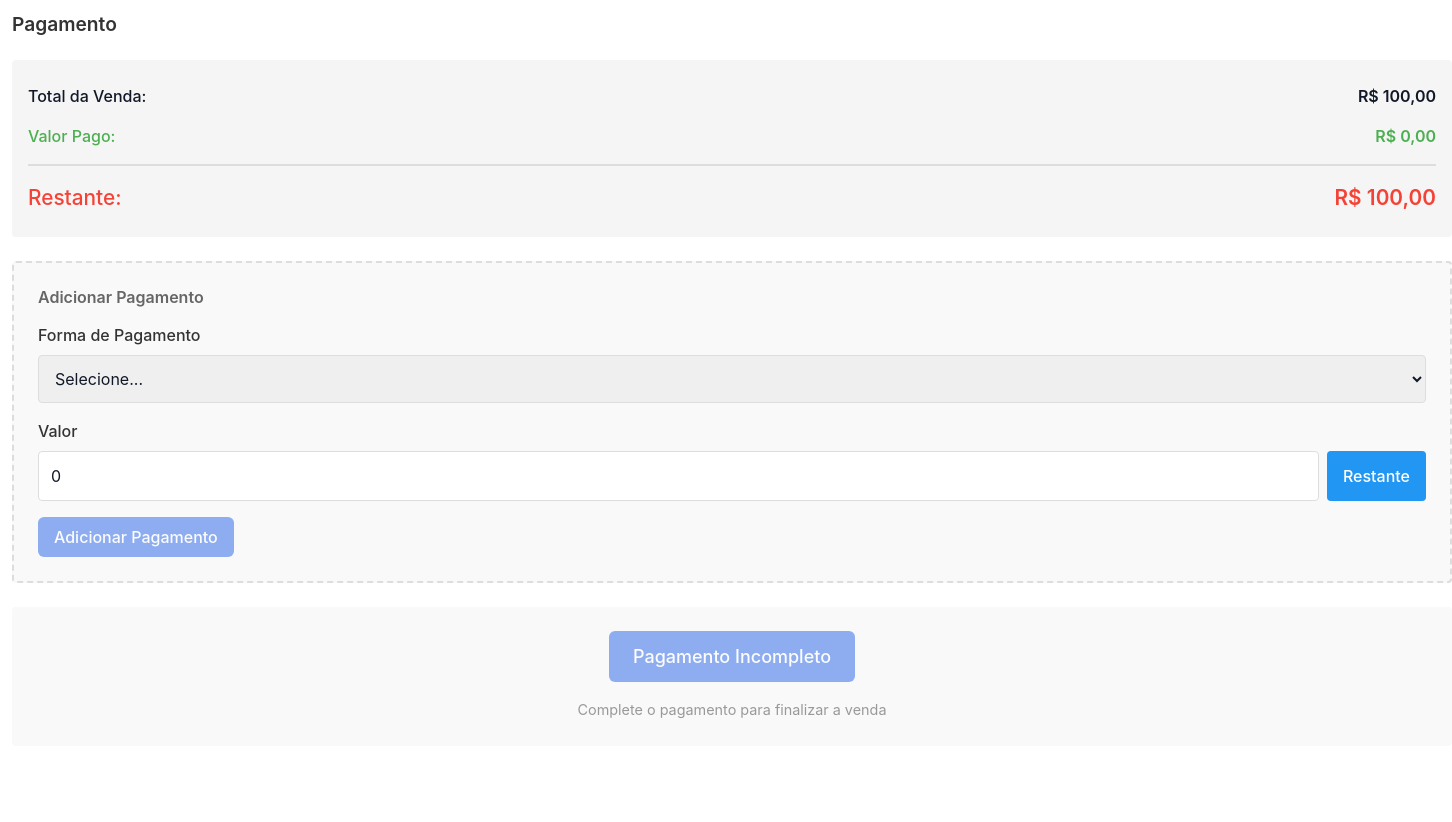
Test case: POSPaymentPanel › Add Payment Action › should reset form after adding payment
The width and height of the screenshot is (1452, 822).
Select "Dinheiro" in the dropdown labelled "Forma de Pagamento" at (732, 379), box [38,355,1426,403]
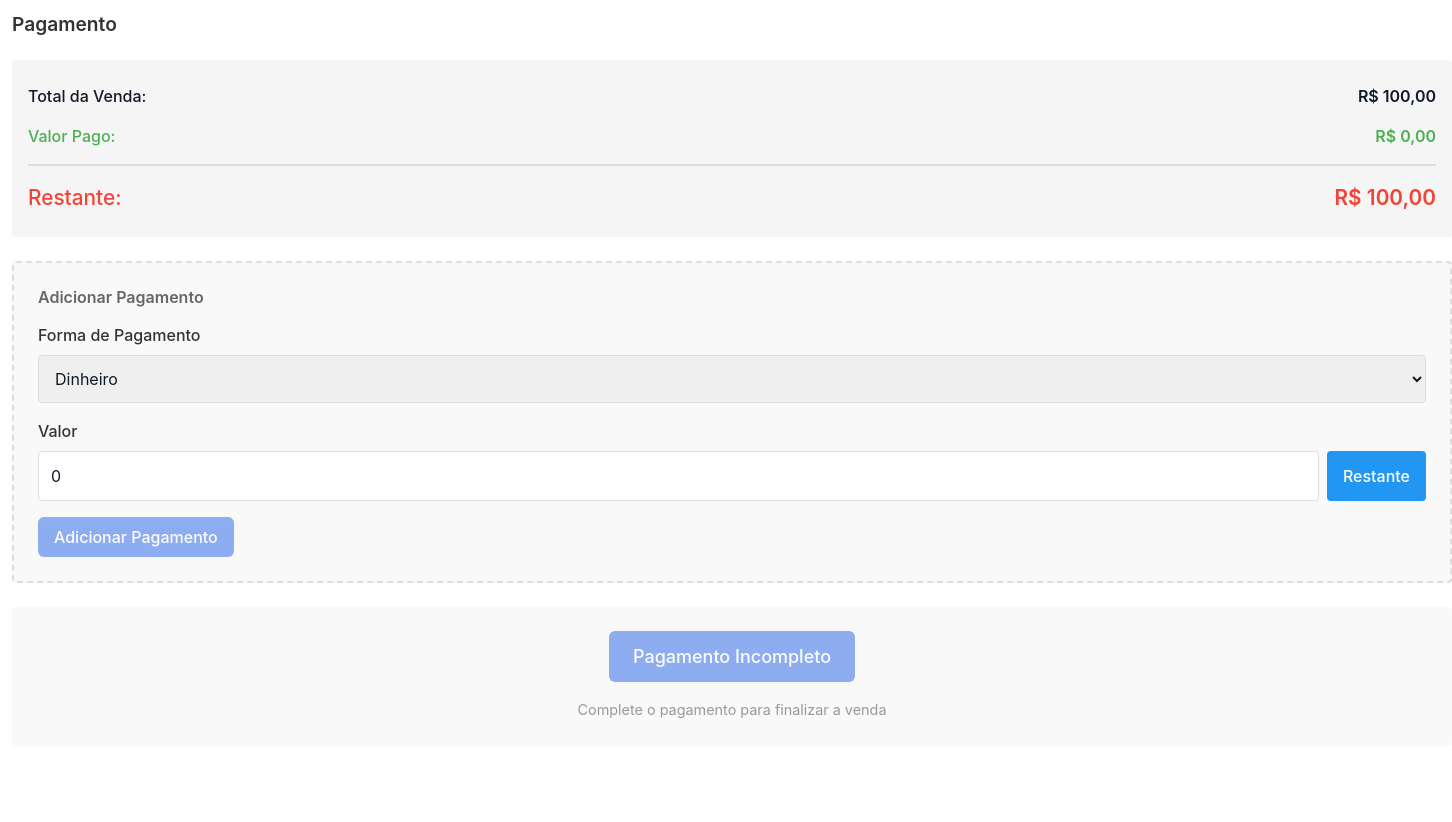
Replace the text in the number field labelled "Valor" with "50" at (678, 476), box [38,451,1319,501]
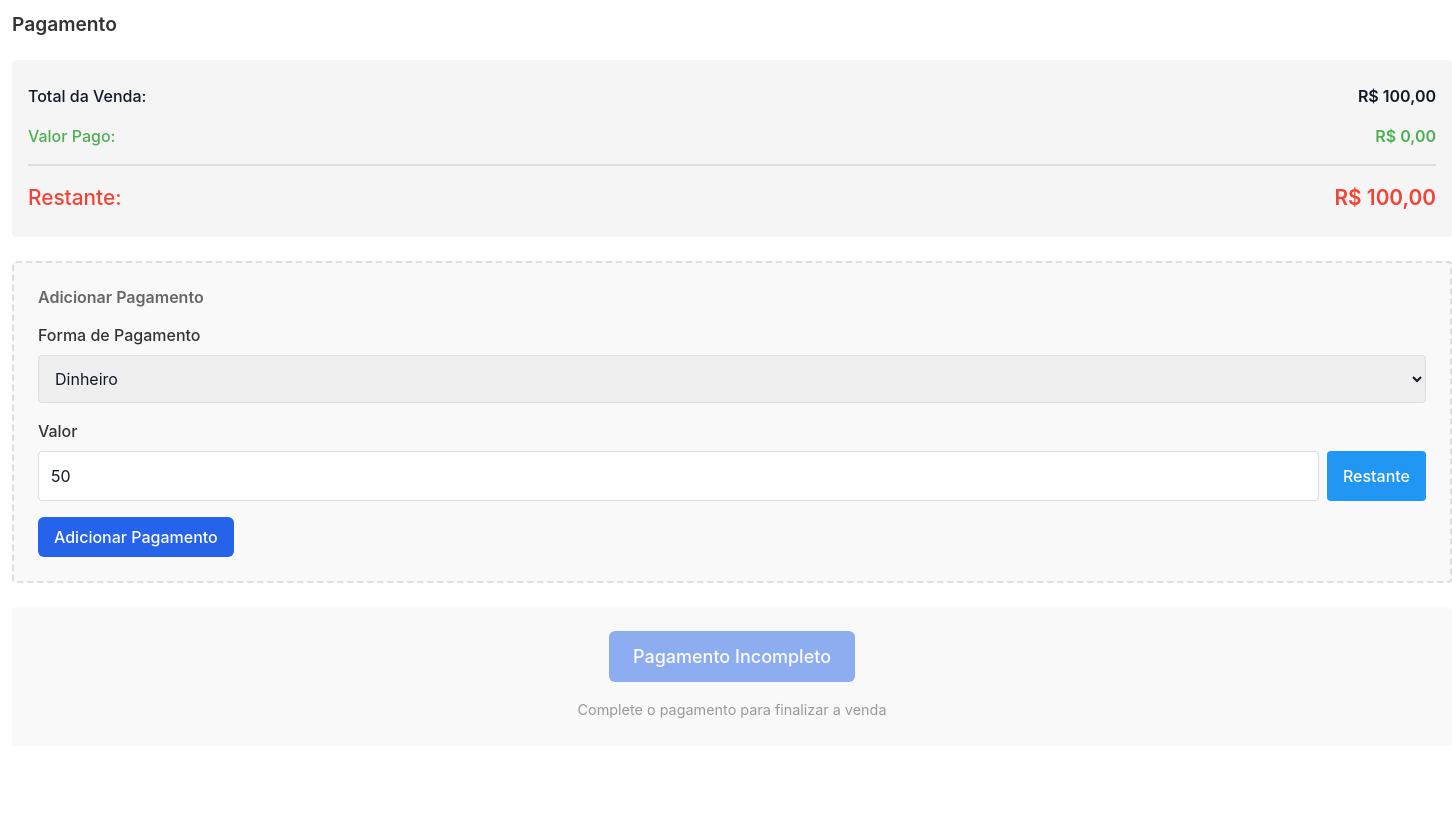
Click the button "Adicionar Pagamento" at (136, 537), box [38,517,234,557]
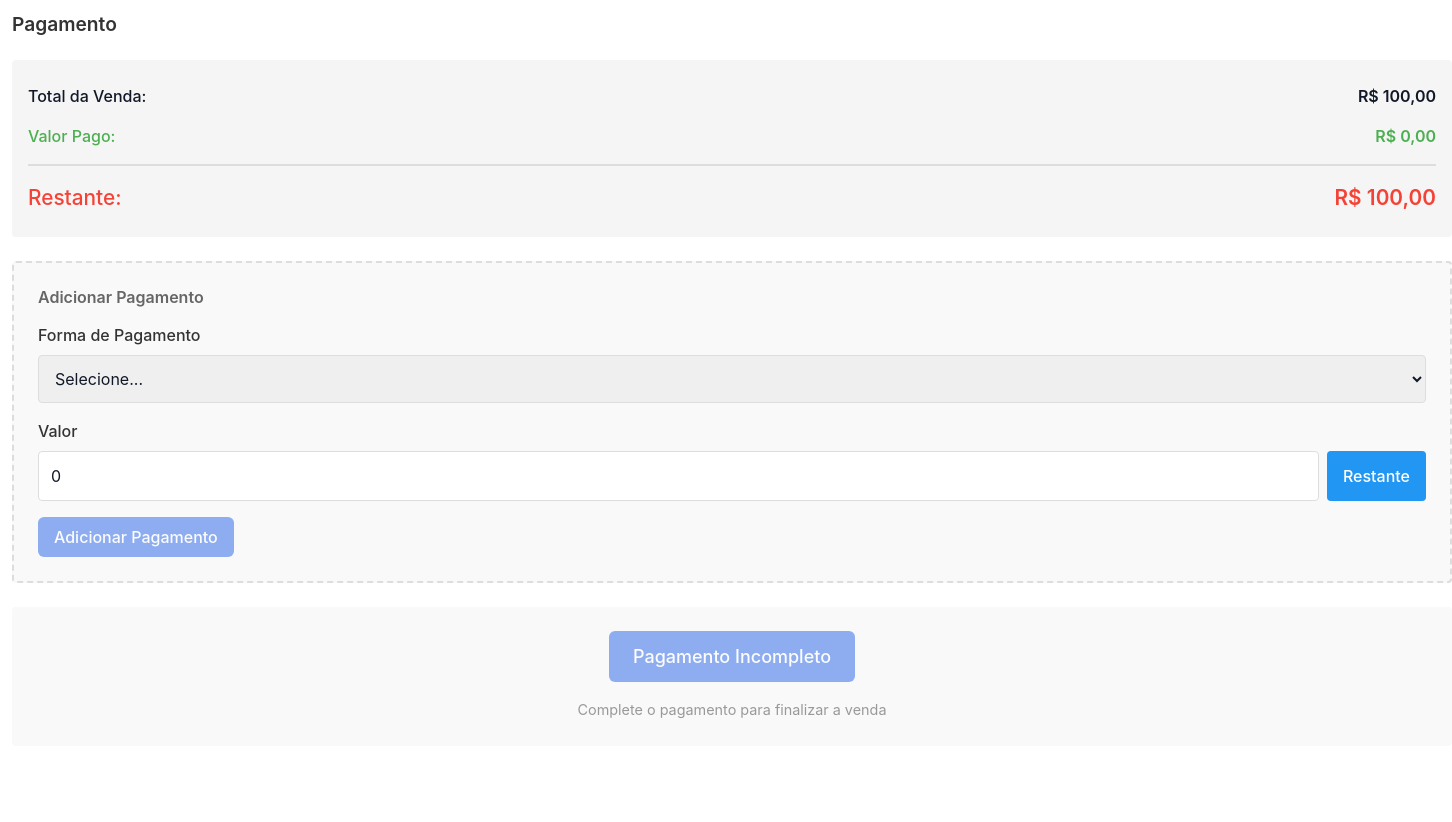
Expected: the number field labelled "Valor" holds "0", [38,451,1319,501]
